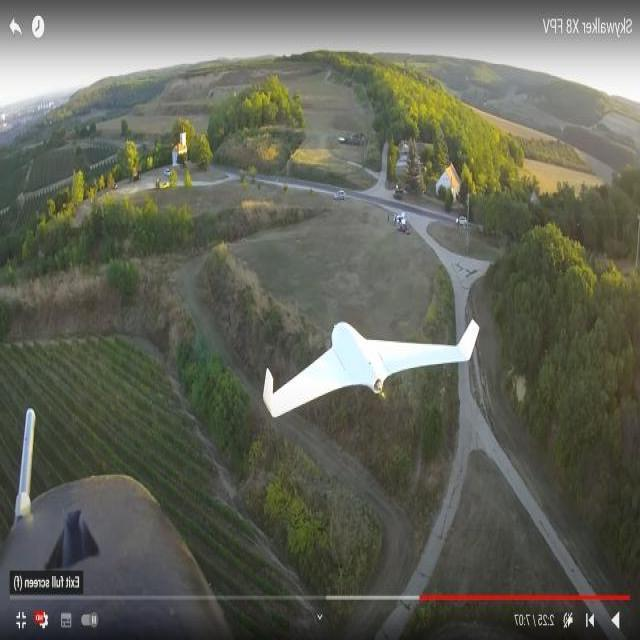iha: (254, 343, 494, 394)
